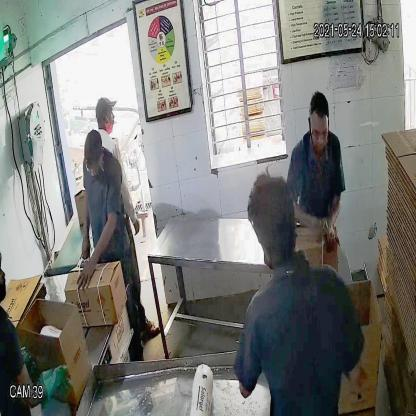goggles: (306, 120, 332, 145), (82, 158, 105, 176)
